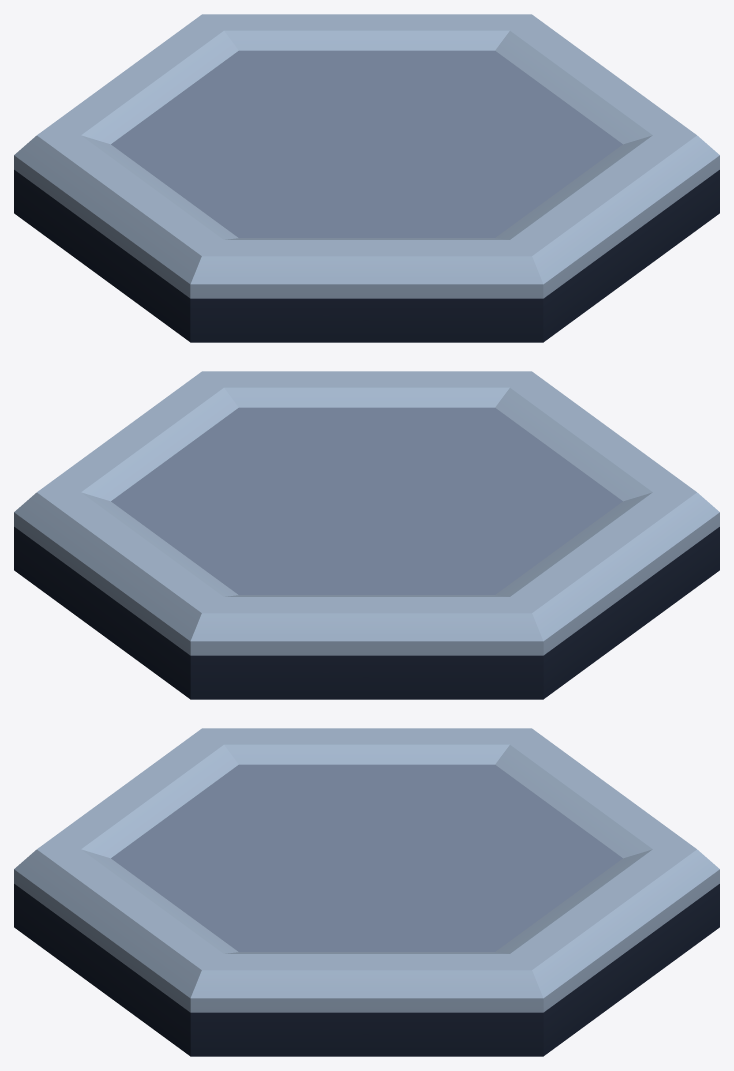
Rendered from Hexagon 13.FBX.
3 renders of one model, top to bottom at view 1: azimuth 30°, elevation 25°; view 2: azimuth 150°, elevation 25°; view 3: azimuth 270°, elevation 25°, orthographic.
Visible parts, largest first — view 1: Hexagon 13; view 2: Hexagon 13; view 3: Hexagon 13.
Part boxes in pixels (bbox=[...]): Hexagon 13: bbox=[14, 14, 719, 342]; Hexagon 13: bbox=[14, 371, 719, 699]; Hexagon 13: bbox=[14, 728, 719, 1056].
Bounding box in the file's own units: 280 × 39.42 × 323.
1 material, 1 textured.
